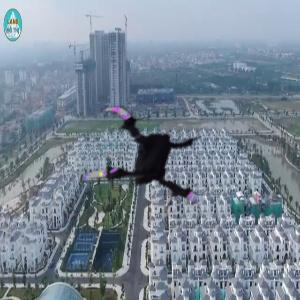drone: (77, 90, 224, 237)
